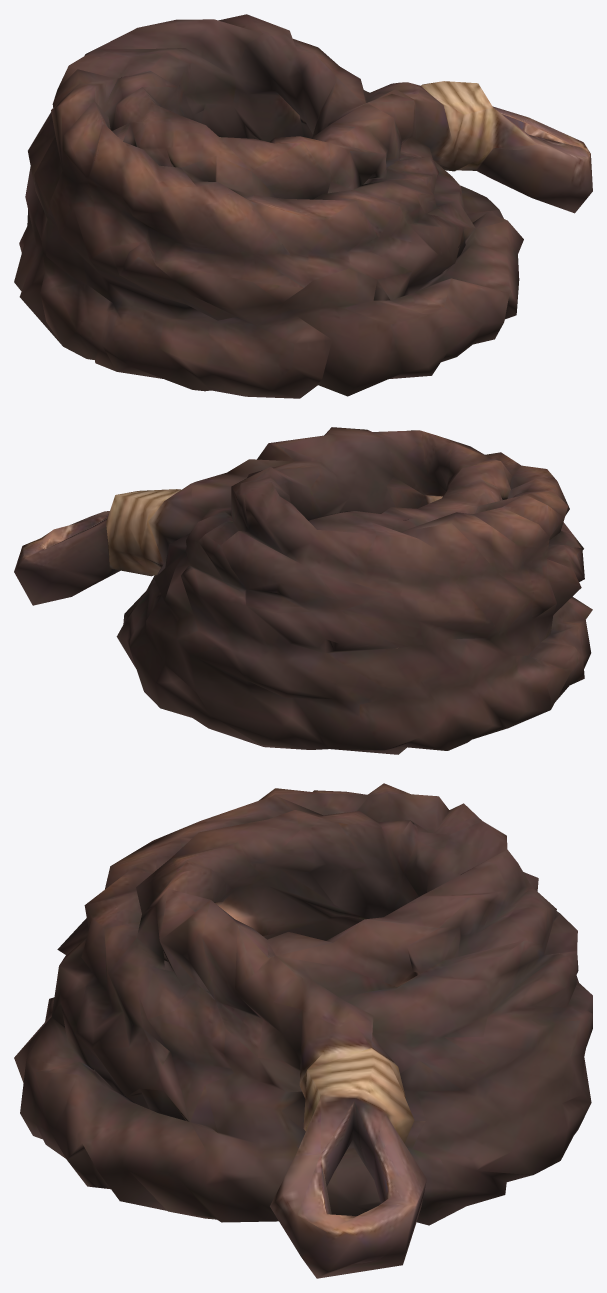
Rendered from model-prop-hawser-coil-01.glb.
3 renders of one model, top to bottom at view 1: azimuth 30°, elevation 25°; view 2: azimuth 150°, elevation 25°; view 3: azimuth 270°, elevation 25°, orthographic. The views are drawn at different scales.
Visible parts, largest first — view 1: tripo_node_50962166-aa7a-495b-aea9-1c171df4fdf9; view 2: tripo_node_50962166-aa7a-495b-aea9-1c171df4fdf9; view 3: tripo_node_50962166-aa7a-495b-aea9-1c171df4fdf9.
Part boxes in pixels (x1=…): tripo_node_50962166-aa7a-495b-aea9-1c171df4fdf9: x1=14, y1=14, x2=592, y2=398; tripo_node_50962166-aa7a-495b-aea9-1c171df4fdf9: x1=14, y1=427, x2=592, y2=754; tripo_node_50962166-aa7a-495b-aea9-1c171df4fdf9: x1=14, y1=783, x2=592, y2=1278.
Bounding box in the file's own units: 2.4 × 1 × 1.95.
Materials: 1 (1 with a texture image).
